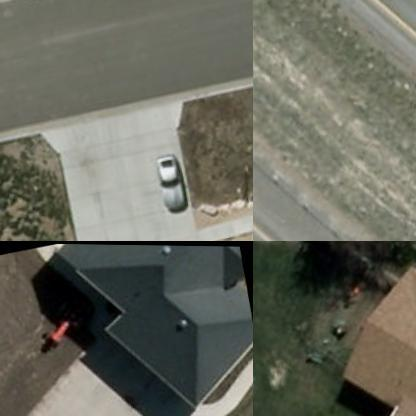car: (153, 154, 191, 214)
tractor: (26, 281, 106, 355)
